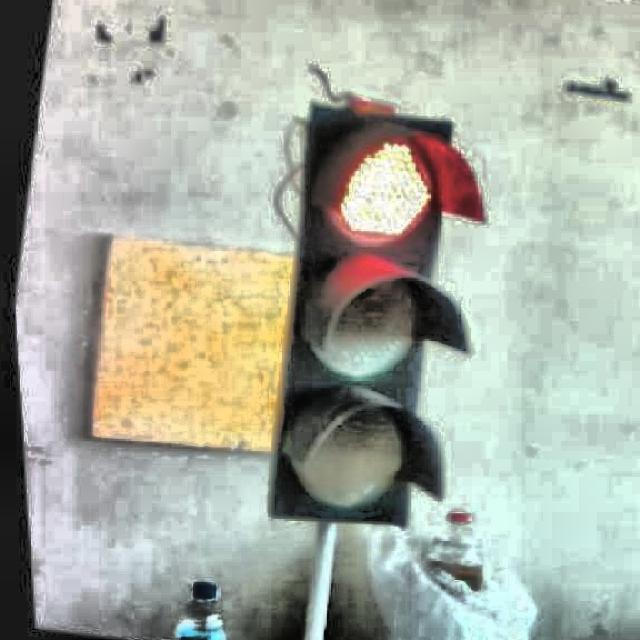red: (302, 95, 439, 542)
